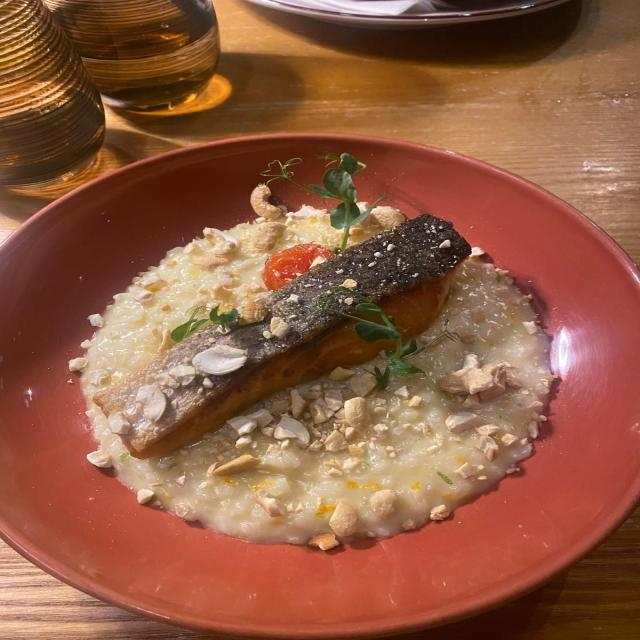cake: (70, 154, 554, 549)
plate: (0, 133, 639, 637)
